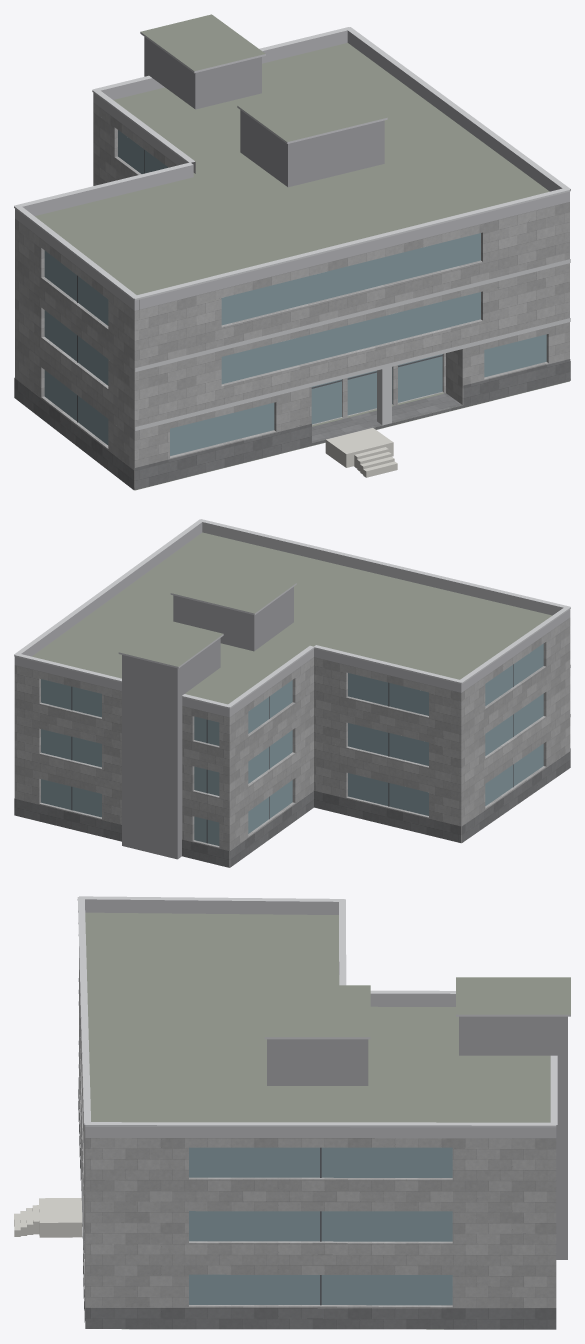
3 views of the same model, one above another, from view 1: azimuth 30°, elevation 25°; view 2: azimuth 150°, elevation 25°; view 3: azimuth 270°, elevation 25° (orthographic). The views are drawn at different scales.
Visible parts, largest first — view 1: b137_1__roof, b137_1__wall, b137_1__glass, b137_1__parapet, b137_1__trim, b137_1__base, b137_1__wall2, b137_1__entranceStair, b137_1__column; view 2: b137_1__wall, b137_1__roof, b137_1__glass, b137_1__wall2, b137_1__parapet, b137_1__base, b137_1__trim, b137_1__frame; view 3: b137_1__roof, b137_1__wall, b137_1__glass, b137_1__wall2, b137_1__base, b137_1__parapet, b137_1__trim, b137_1__entranceStair.
Part boxes in pixels (x1,y1,x2,y2): b137_1__roof: [35, 14, 569, 490]; b137_1__wall: [15, 102, 569, 489]; b137_1__glass: [44, 130, 546, 455]; b137_1__parapet: [15, 30, 569, 310]; b137_1__trim: [14, 27, 570, 430]; b137_1__base: [14, 359, 570, 489]; b137_1__wall2: [144, 37, 384, 187]; b137_1__entranceStair: [325, 428, 397, 477]; b137_1__column: [377, 367, 391, 425]; b137_1__wall: [14, 618, 570, 867]; b137_1__roof: [32, 532, 552, 704]; b137_1__glass: [41, 643, 543, 845]; b137_1__wall2: [122, 587, 293, 859]; b137_1__parapet: [14, 522, 570, 717]; b137_1__base: [14, 748, 570, 867]; b137_1__trim: [14, 519, 570, 716]; b137_1__frame: [71, 664, 513, 843]; b137_1__roof: [79, 912, 570, 1329]; b137_1__wall: [79, 948, 556, 1317]; b137_1__glass: [189, 1147, 452, 1305]; b137_1__wall2: [267, 1016, 567, 1259]; b137_1__base: [78, 1077, 556, 1329]; b137_1__parapet: [85, 899, 556, 1138]; b137_1__trim: [77, 896, 570, 1256]; b137_1__entranceStair: [14, 1198, 82, 1237].
Bounding box in the file's own units: 27.81 × 14.81 × 28.56.
11 materials, 2 textured.
